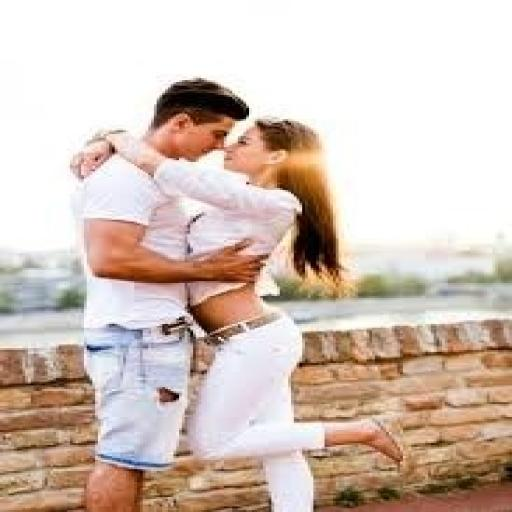hugging: (70, 76, 414, 510)
